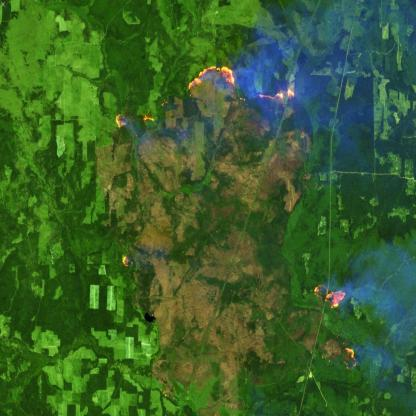fire: (115, 60, 296, 131), (309, 280, 359, 373), (118, 252, 134, 273)
